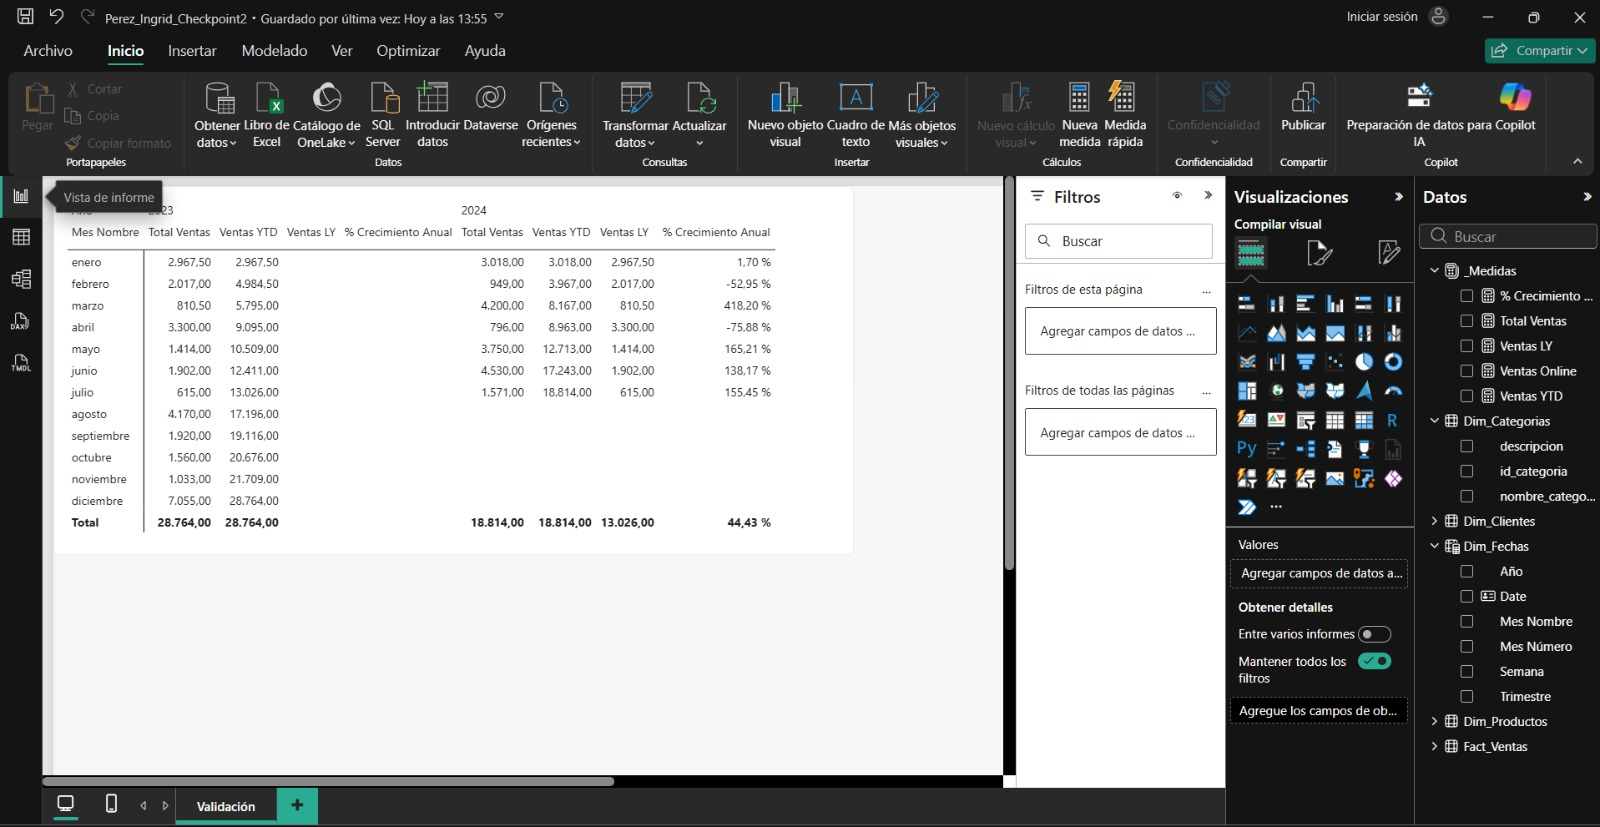

This screenshot's page, from the dashboard's own definition file:
{"tool":"powerbi","page":{"name":"Validación","canvas":[1920,1080],"ordinal":0},"visuals":[{"type":"pivotTable","fields":{"Columns":["Dim_Fechas.Año"],"Rows":["Dim_Fechas.Mes Nombre"],"Values":["_Medidas.Total Ventas","_Medidas.Ventas YTD","_Medidas.Ventas LY","_Medidas.% Crecimiento Anual"]},"box":[0,0,959.2,442.5],"z":0}]}

Visuals, with their boxes on the page's 1920x1080 design canvas (x1, y1, x2, y2). These are canvas units, not pixel positions in the 1600x827 screenshot, which may show the page scaled, cropped or inside an application window:
pivotTable - Dim_Fechas.Año x Dim_Fechas.Mes Nombre: bbox(0, 0, 959, 442)
